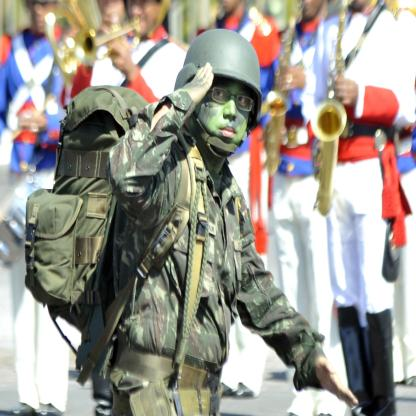Helmet: (174, 29, 263, 159)
